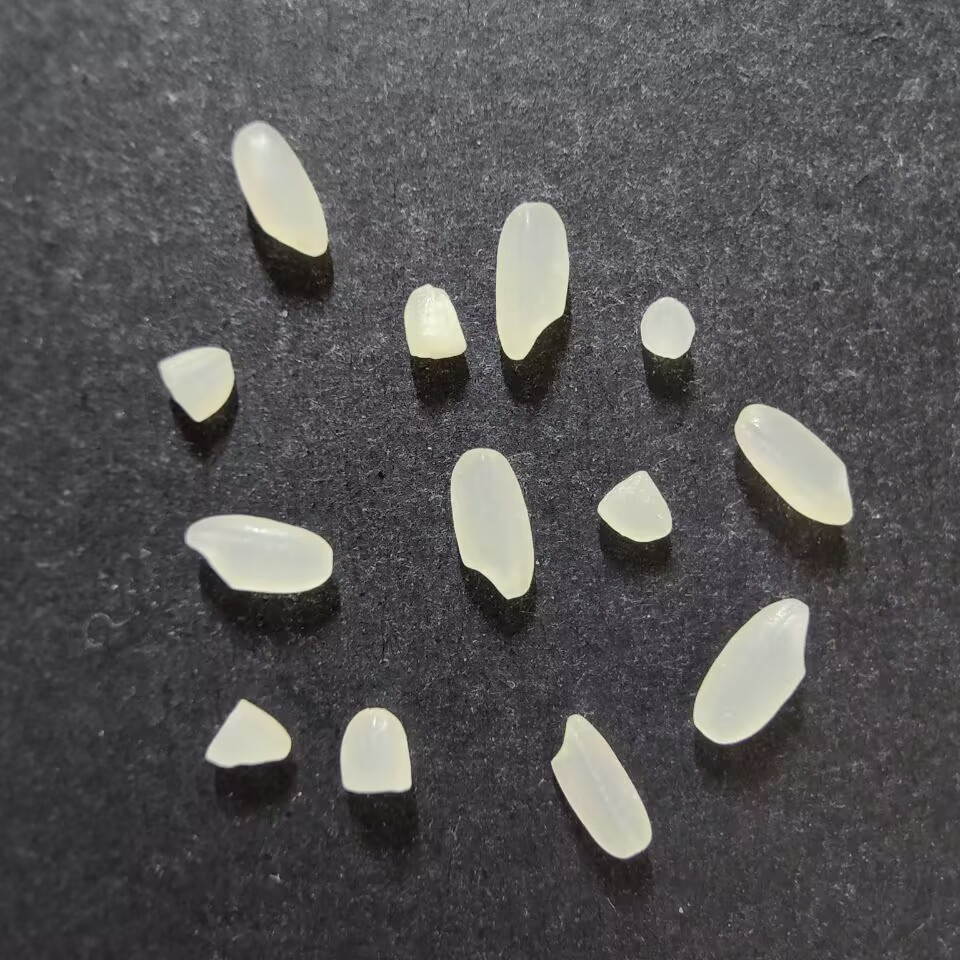broken: (339, 707, 413, 793), (204, 697, 291, 767), (158, 345, 234, 423), (596, 469, 673, 543), (403, 284, 466, 359), (639, 297, 695, 359)
rice: (692, 597, 809, 745), (549, 713, 653, 859), (732, 402, 853, 526), (231, 121, 329, 258), (449, 447, 534, 599), (493, 201, 570, 362), (184, 514, 334, 594)
